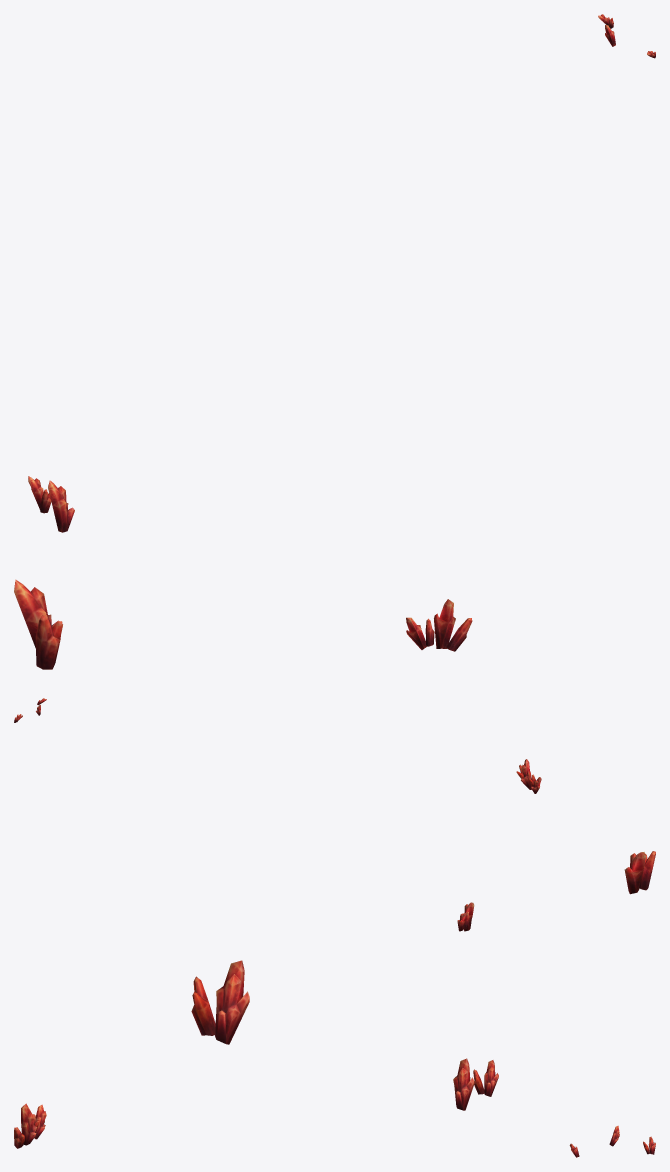
File: boss2_wujian_1.fbx
3 views of the same model, one above another, from view 1: azimuth 30°, elevation 25°; view 2: azimuth 150°, elevation 25°; view 3: azimuth 270°, elevation 25° (orthographic). The views are drawn at different scales.
Parts seen in each view (by area): view 1: boss2_wujian_1; view 2: boss2_wujian_1; view 3: boss2_wujian_1.
Part boxes in pixels (x1,y1,x2,y2): boss2_wujian_1: (14,14,655,669); boss2_wujian_1: (14,698,655,931); boss2_wujian_1: (14,960,655,1157).
Bounding box in the file's own units: 6127 × 2039 × 4568.
